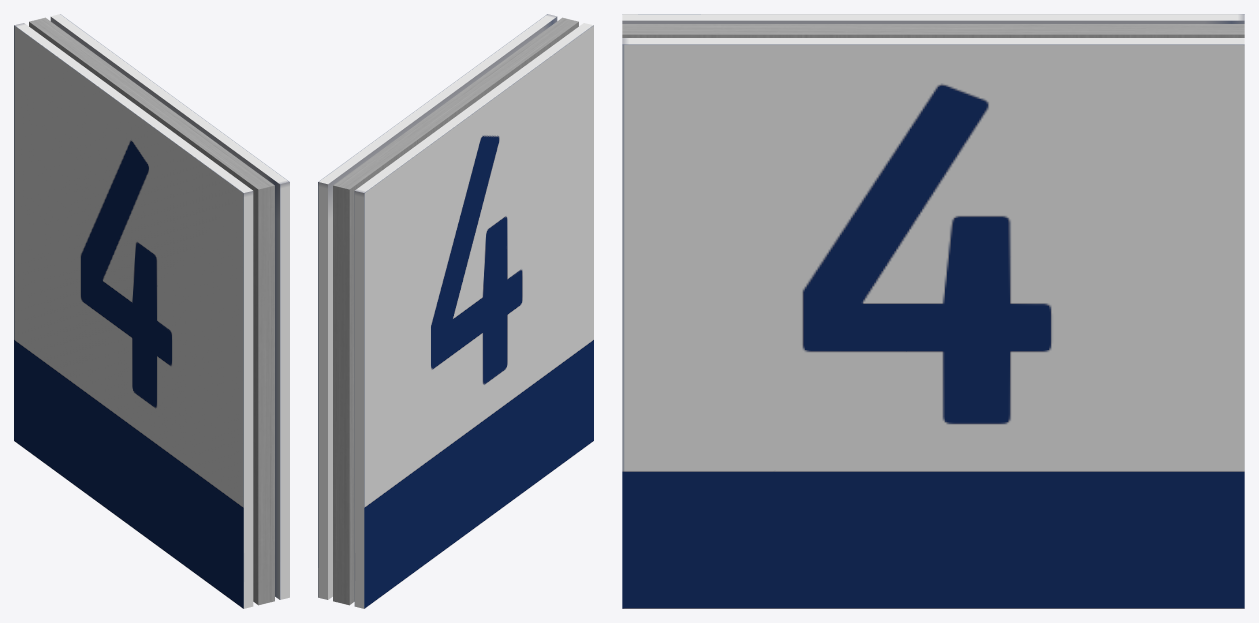
File: scotrail_platform_4.obj
The picture shows the model from 3 angles, left to right: view 1: azimuth 30°, elevation 25°; view 2: azimuth 150°, elevation 25°; view 3: azimuth 270°, elevation 25°; orthographic projection. The views are drawn at different scales.
Parts seen in each view (by area): view 1: cube; view 2: cube; view 3: cube.
Boxes of the visible parts, x1,y1,x2,y2 form: cube: (14,14,289,608); cube: (318,14,593,608); cube: (622,14,1244,608).
Size of the model in its own units: 0.0438 by 0.375 by 0.375.
Materials: 2 (2 with a texture image).
